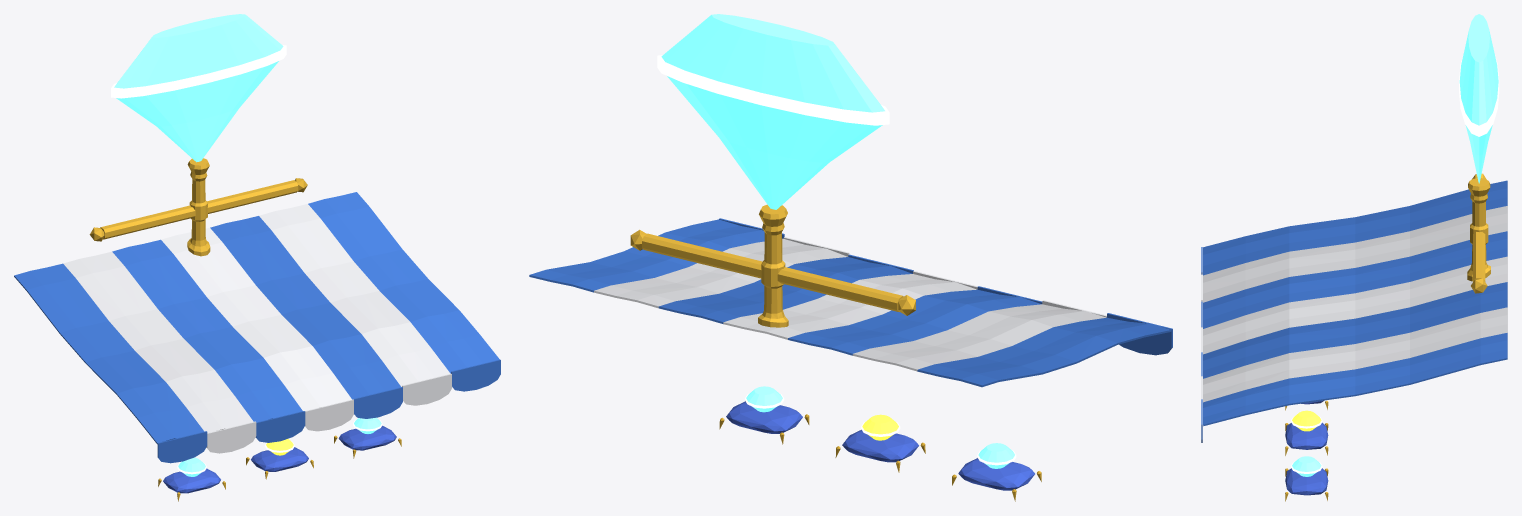
File: diamond_shop.fbx
3 views of the same model, side by side, from view 1: azimuth 30°, elevation 25°; view 2: azimuth 150°, elevation 25°; view 3: azimuth 270°, elevation 25° (orthographic). The views are drawn at different scales.
Parts seen in each view (by area): view 1: diamond_shop_AwningBlue, diamond_shop_AwningWhite, diamond_shop_Diamond_Glow, diamond_shop_SignGold, diamond_shop_Cushions, diamond_shop_DiamondRim_Glow, diamond_shop_GemsCyan_Glow; view 2: diamond_shop_AwningBlue, diamond_shop_Diamond_Glow, diamond_shop_AwningWhite, diamond_shop_SignGold, diamond_shop_Cushions, diamond_shop_DiamondRim_Glow, diamond_shop_GemsCyan_Glow; view 3: diamond_shop_AwningBlue, diamond_shop_AwningWhite, diamond_shop_Diamond_Glow, diamond_shop_SignGold, diamond_shop_Cushions, diamond_shop_DiamondRim_Glow, diamond_shop_GemGold_Glow, diamond_shop_GemsCyan_Glow.
Boxes of the visible parts, x1,y1,x2,y2 form: diamond_shop_AwningBlue: (14, 192, 500, 463); diamond_shop_AwningWhite: (63, 204, 451, 453); diamond_shop_Diamond_Glow: (114, 14, 283, 162); diamond_shop_SignGold: (89, 158, 307, 256); diamond_shop_Cushions: (163, 425, 396, 493); diamond_shop_DiamondRim_Glow: (111, 45, 286, 98); diamond_shop_GemsCyan_Glow: (178, 417, 381, 476); diamond_shop_AwningBlue: (529, 218, 1172, 387); diamond_shop_Diamond_Glow: (661, 14, 884, 209); diamond_shop_AwningWhite: (594, 237, 1106, 371); diamond_shop_SignGold: (630, 204, 915, 327); diamond_shop_Cushions: (726, 401, 1034, 490); diamond_shop_DiamondRim_Glow: (657, 55, 889, 125); diamond_shop_GemsCyan_Glow: (746, 386, 1014, 468); diamond_shop_AwningBlue: (1201, 180, 1507, 442); diamond_shop_AwningWhite: (1201, 206, 1507, 402); diamond_shop_Diamond_Glow: (1459, 14, 1498, 183); diamond_shop_SignGold: (1467, 173, 1490, 293); diamond_shop_Cushions: (1285, 400, 1328, 495); diamond_shop_DiamondRim_Glow: (1459, 55, 1499, 136); diamond_shop_GemGold_Glow: (1292, 410, 1321, 431); diamond_shop_GemsCyan_Glow: (1292, 456, 1321, 476).
Bounding box in the file's own units: 15.6 × 16.62 × 11.38.
